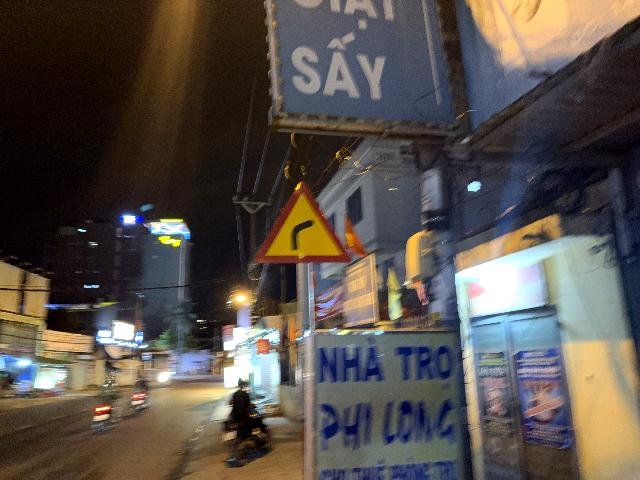cho-ngoat-nguy-hiem-ben-phai: (256, 180, 352, 263)
